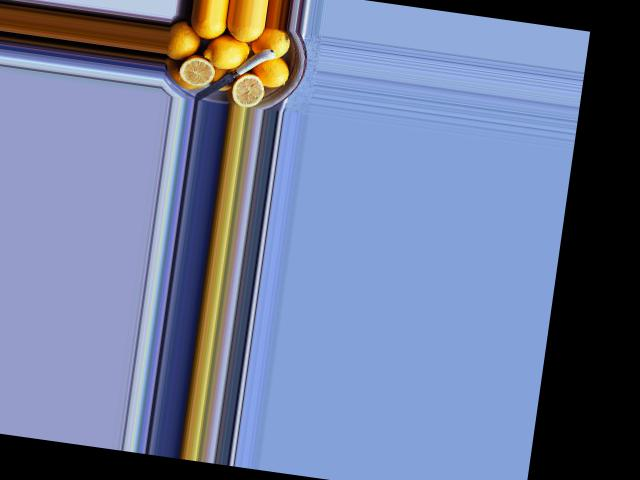lemon: (165, 19, 205, 66)
